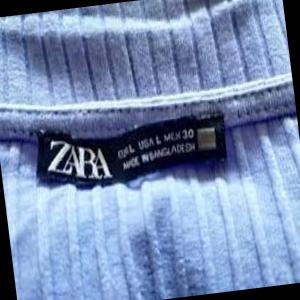zara: (101, 64, 138, 194)
